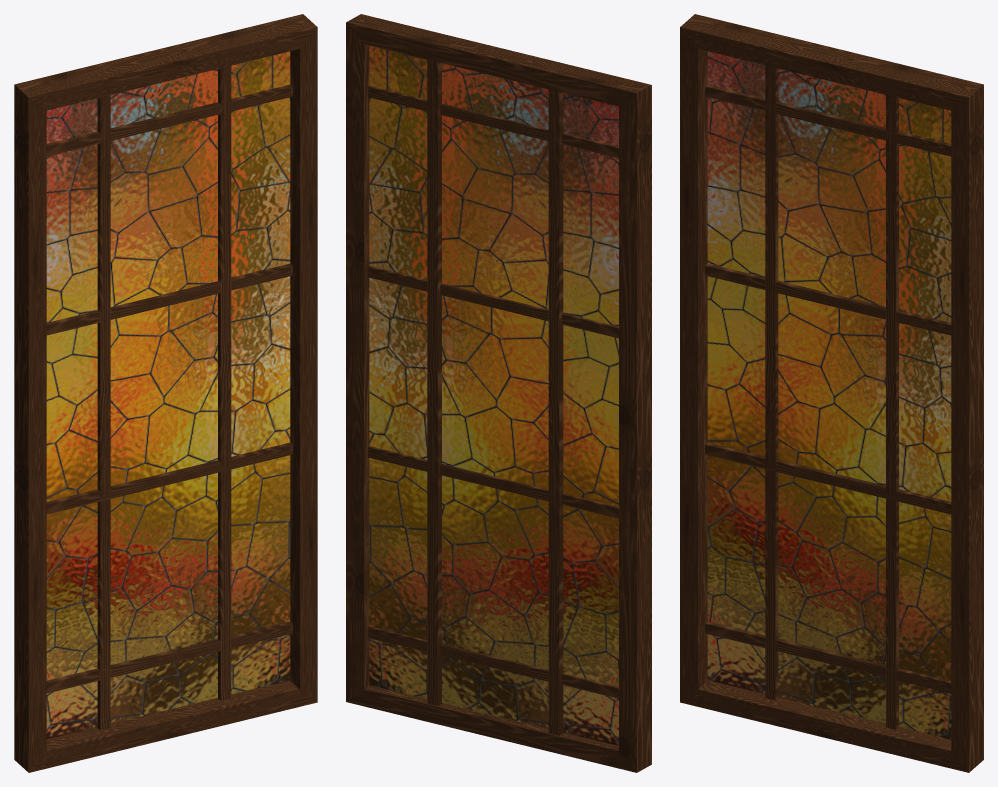
The model's file is LIH0110016.fbx.
3 renders of one model, left to right at view 1: azimuth 30°, elevation 25°; view 2: azimuth 150°, elevation 25°; view 3: azimuth 330°, elevation 25°, orthographic.
Parts seen in each view (by area): view 1: smLIH0110016; view 2: smLIH0110016; view 3: smLIH0110016.
Part boxes in pixels (<box>): smLIH0110016: <box>14,14,317,772</box>; smLIH0110016: <box>346,14,651,772</box>; smLIH0110016: <box>680,14,983,772</box>.
Bounding box in the file's own units: 131 × 293 × 11.55.
